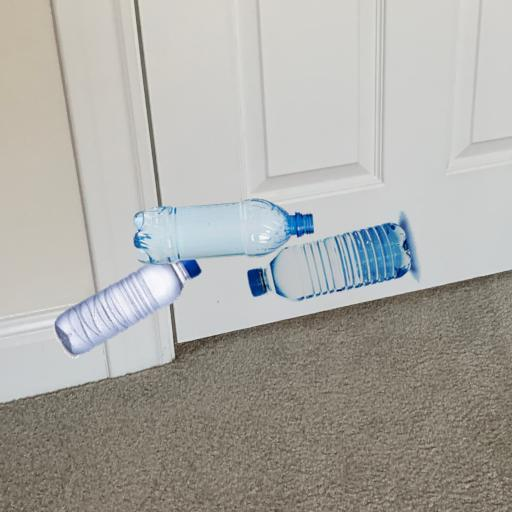bottle: (31, 245, 434, 273)
